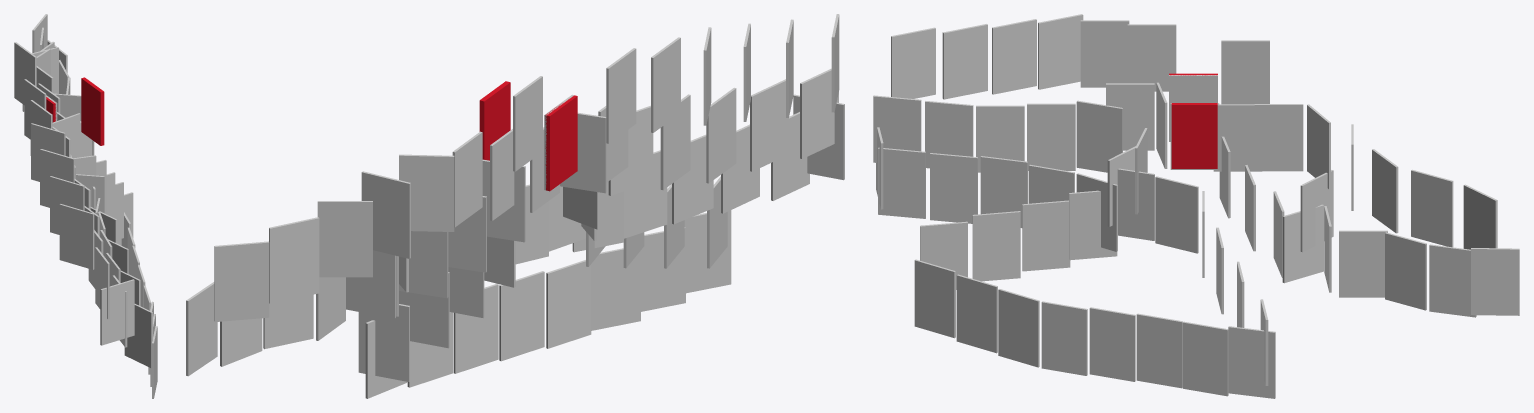
Rendered from mirror.glb.
3 views of the same model, side by side, from view 1: azimuth 30°, elevation 25°; view 2: azimuth 150°, elevation 25°; view 3: azimuth 270°, elevation 25° (orthographic). The views are drawn at different scales.
Visible parts, largest first — view 1: frame.039, frame.041, glass, frame.058, frame.037, frame.036, frame.011, frame.001, frame.040, frame.035, frame.009, frame.022 (+32 smaller); view 2: frame.033, frame.020, frame.031, frame.007, frame.052, frame.050, frame.049, frame.014, frame.038, frame.026, frame.048, frame.056 (+43 smaller); view 3: frame.005, frame.034, frame.055, frame.002, frame.054, frame.043, frame.050, frame.047, frame.048, frame.049, frame.003, frame.001 (+42 smaller).
Boxes of the visible parts, x1,y1,x2,y2 form: frame.039: [59, 204, 94, 269]; frame.041: [100, 279, 134, 345]; glass: [81, 77, 104, 145]; frame.058: [124, 304, 152, 368]; frame.037: [50, 176, 84, 234]; frame.036: [40, 149, 74, 207]; frame.011: [31, 123, 65, 181]; frame.001: [14, 42, 36, 104]; frame.040: [95, 247, 109, 319]; frame.035: [24, 79, 46, 139]; frame.009: [76, 174, 104, 213]; frame.022: [54, 93, 81, 120]; frame.033: [214, 241, 269, 321]; frame.020: [317, 201, 372, 277]; frame.031: [269, 217, 319, 303]; frame.007: [399, 154, 454, 231]; frame.052: [591, 248, 640, 330]; frame.050: [546, 260, 591, 348]; frame.049: [499, 271, 544, 361]; frame.014: [361, 171, 410, 258]; frame.038: [750, 79, 788, 171]; frame.026: [358, 304, 409, 381]; frame.048: [453, 283, 498, 373]; frame.056: [641, 227, 685, 311]; frame.005: [1254, 104, 1303, 171]; frame.034: [1471, 248, 1519, 315]; frame.055: [972, 211, 1020, 281]; frame.002: [1027, 103, 1075, 170]; frame.054: [1022, 200, 1070, 271]; frame.043: [930, 153, 977, 223]; frame.050: [1041, 301, 1087, 375]; frame.047: [1182, 321, 1228, 396]; frame.048: [1136, 313, 1182, 388]; frame.049: [1089, 307, 1135, 381]; frame.003: [1080, 20, 1129, 87]; frame.001: [1221, 40, 1269, 104].
Bounding box in the file's own units: 26.46 × 27.58 × 53.11.
